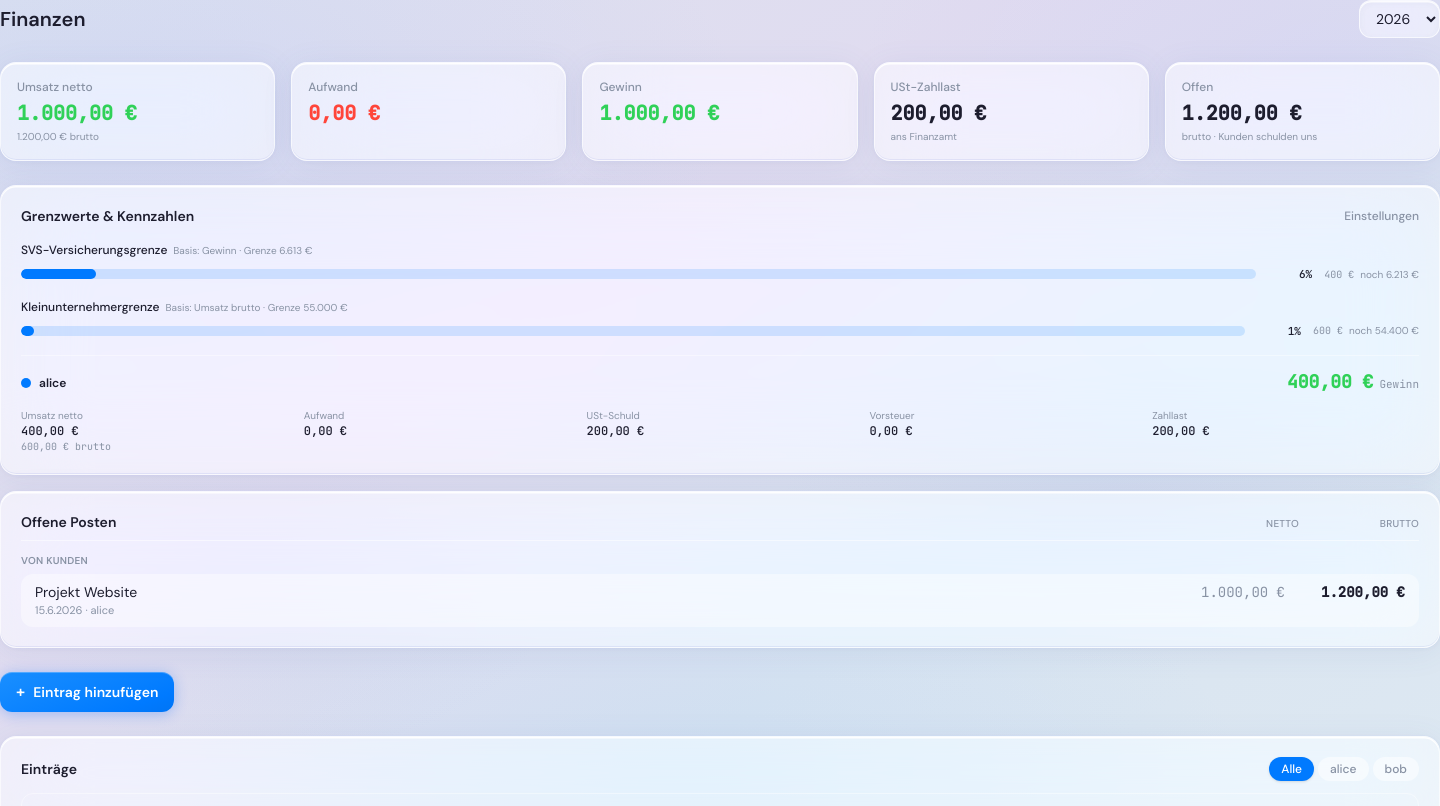
FinancePage › blendet die USt bei 'keine USt' aus der Vorschau aus
Click the button "+ Eintrag hinzufügen" at [87, 692], box [0,672,174,712]
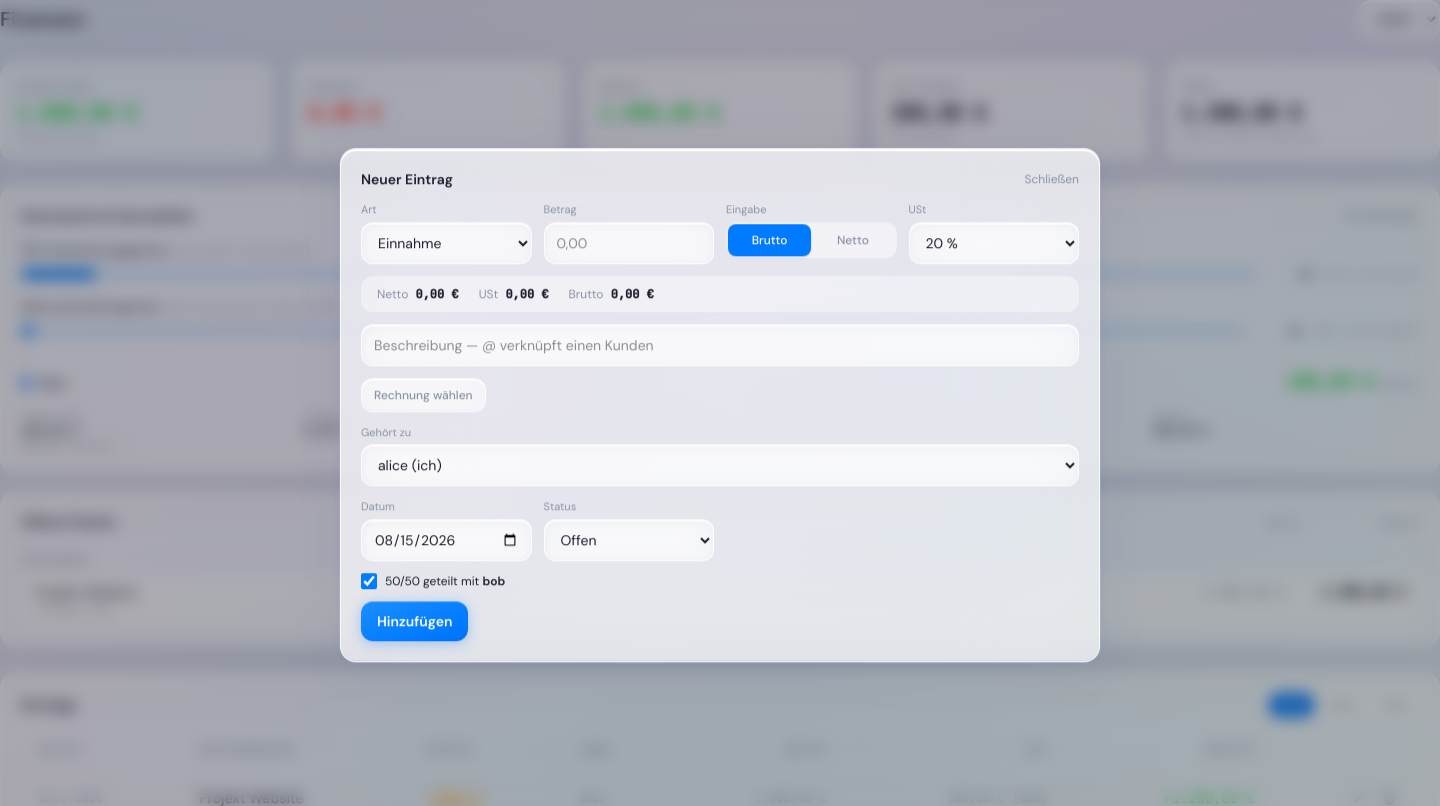
Expected: the number field labelled "Betrag" is shown, [544,222,714,264]
Click the checkbox labelled "50/50 geteilt mit bob" at [369, 581], box [361,573,377,589]
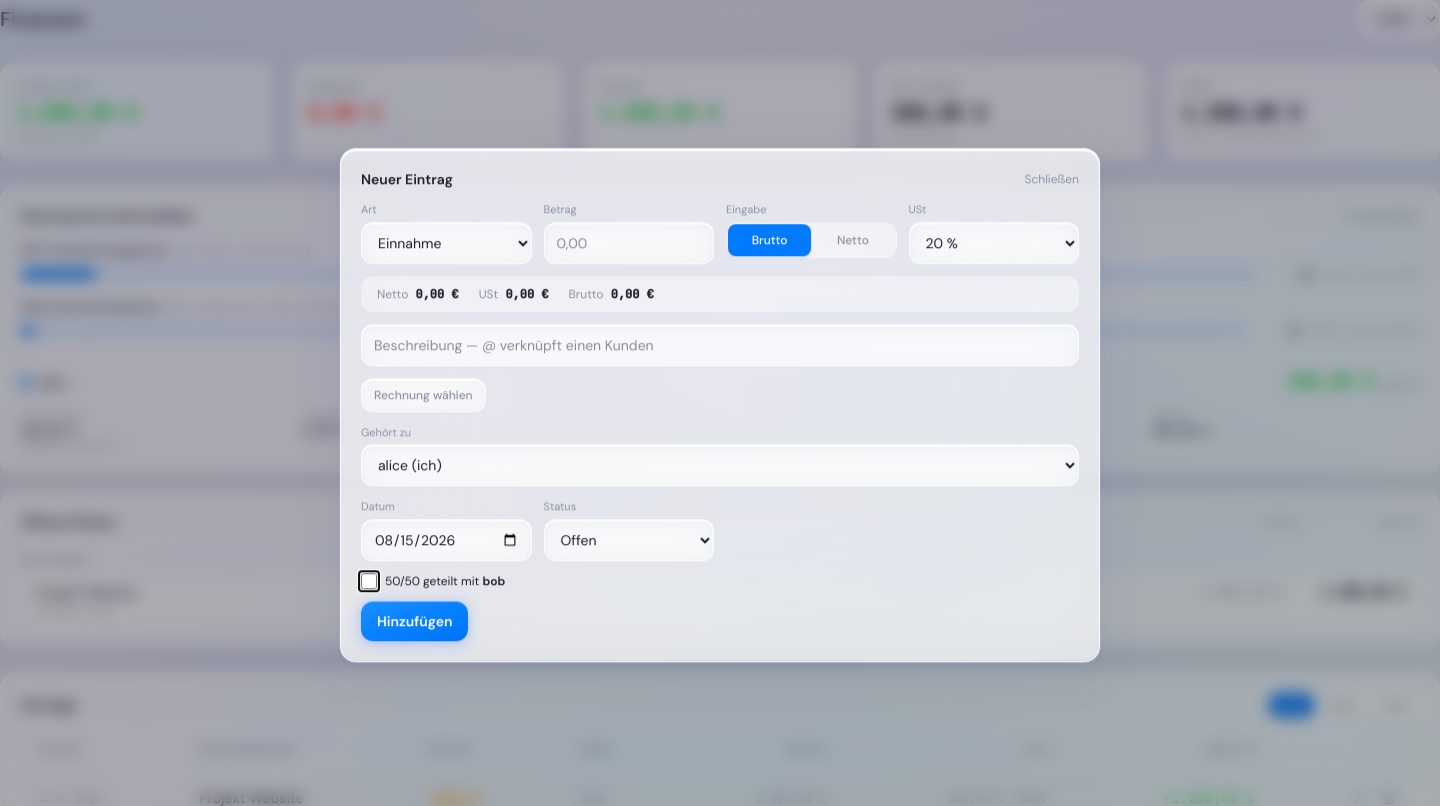
Type "250" into the number field labelled "Betrag" at [629, 243], box [544,222,714,264]
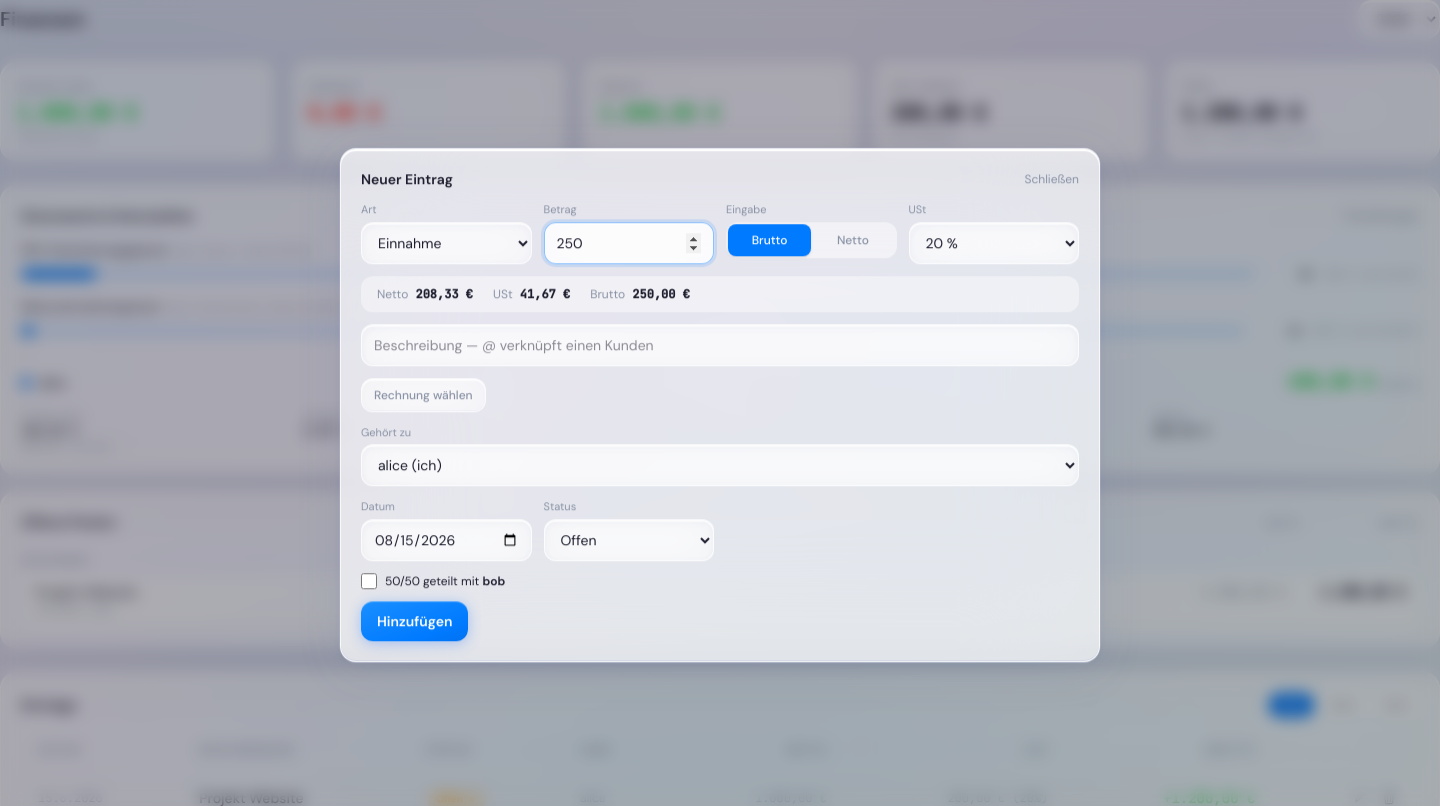
Select "keine USt" in the dropdown named "USt-Satz" at [994, 243], box [908,222,1079,264]
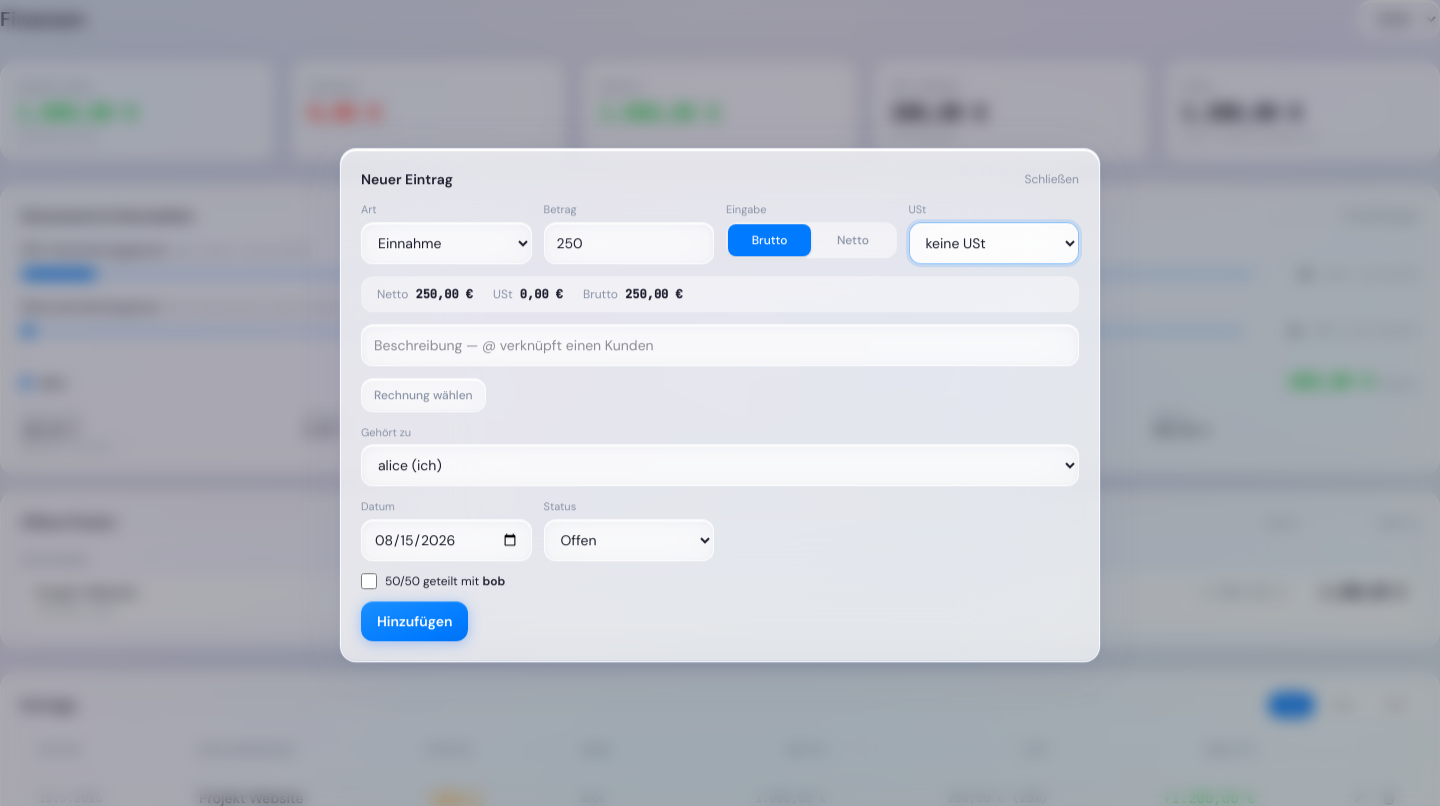
Expected: the text "250,00 €" is shown 2 times, [416,286,473,302]; [625,286,683,302]
Expected: the text "0,00 €" is shown, [520,286,563,302]
